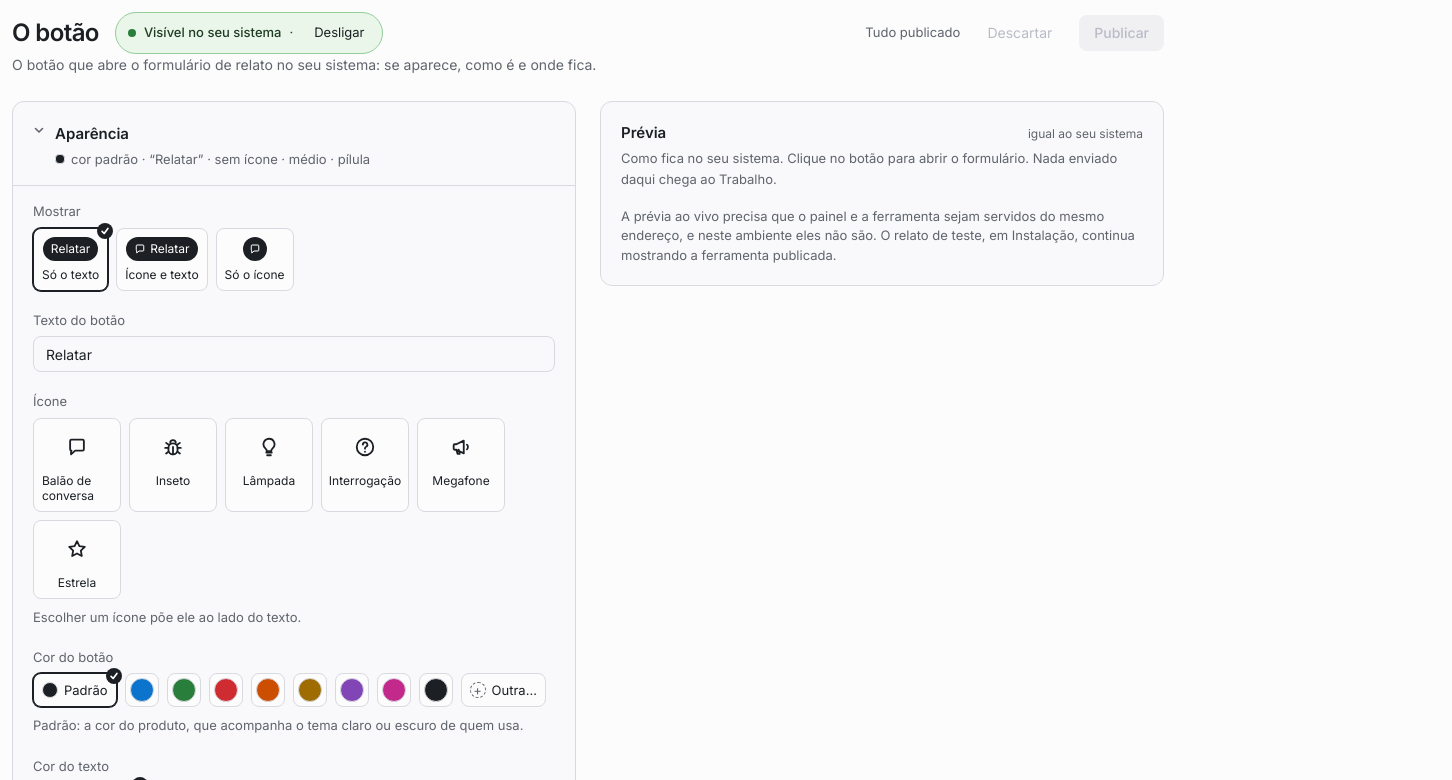
it: WidgetSettingsScreen › a previa diz que ja mostra o que ainda nao foi publicado
Check: the text "igual ao seu sistema" is shown, box [1028,125,1143,143]
Check: the text "Como fica no seu sistema. Clique no botão para abrir o formulário." is shown, box [621,150,1029,166]
Replace the text in the field labelled "Texto do botão" with "Fale com a gente" at (294, 354), box [33,336,555,372]
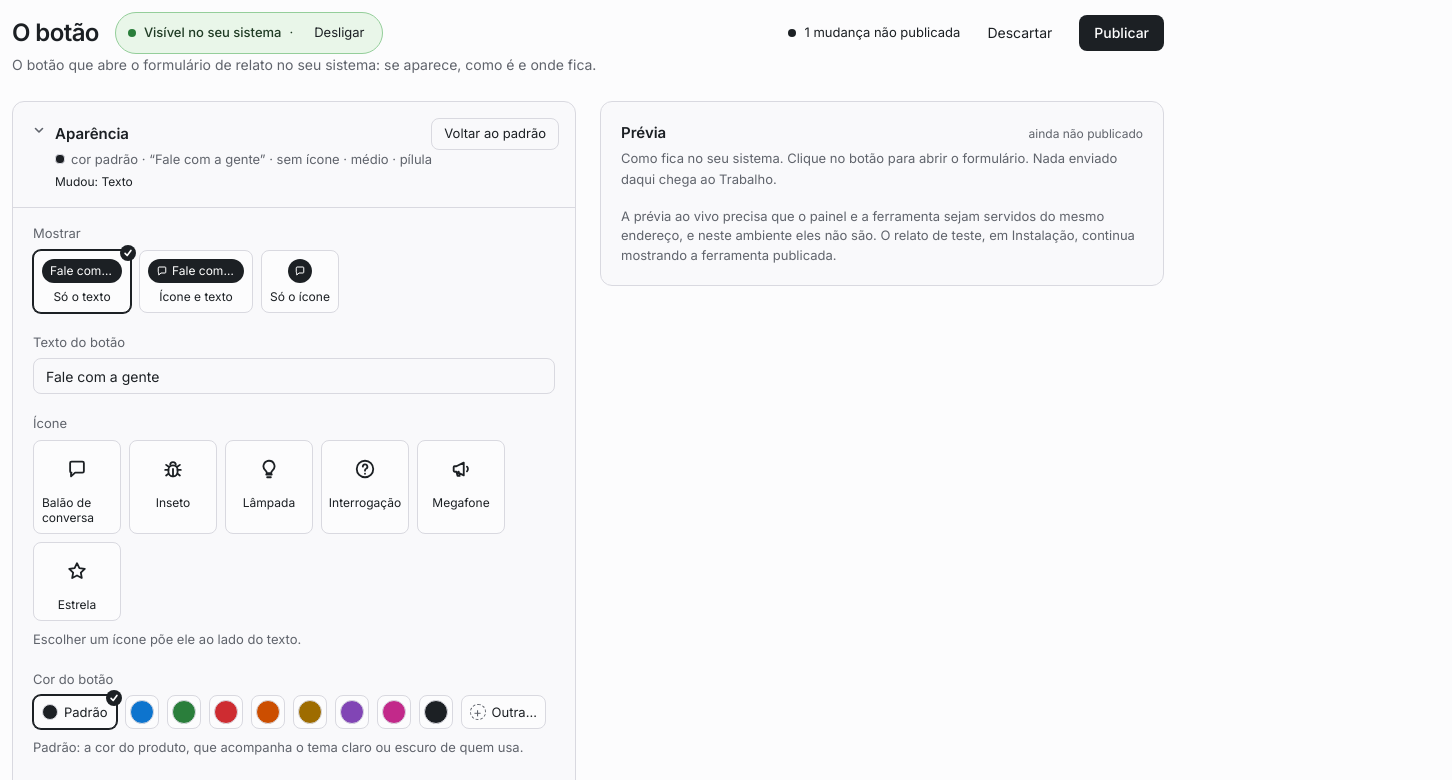
Check: the text "ainda não publicado" is shown, box [1028,125,1143,143]
Check: the text "igual ao seu sistema" is gone
